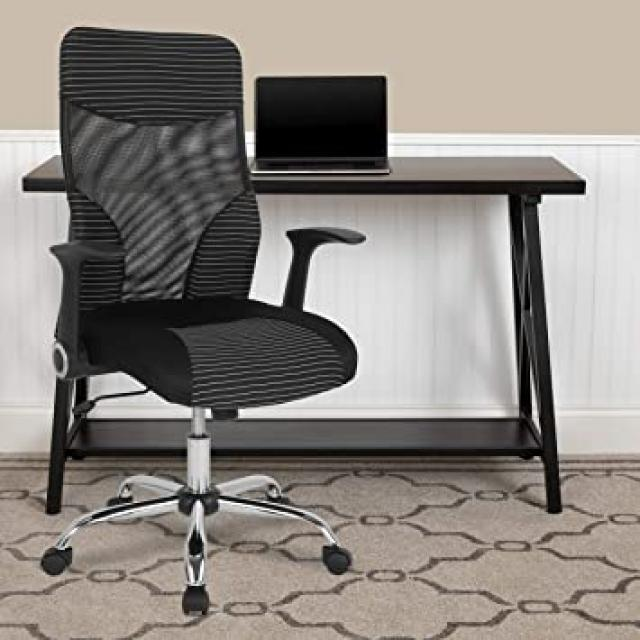chair: (25, 19, 368, 640)
